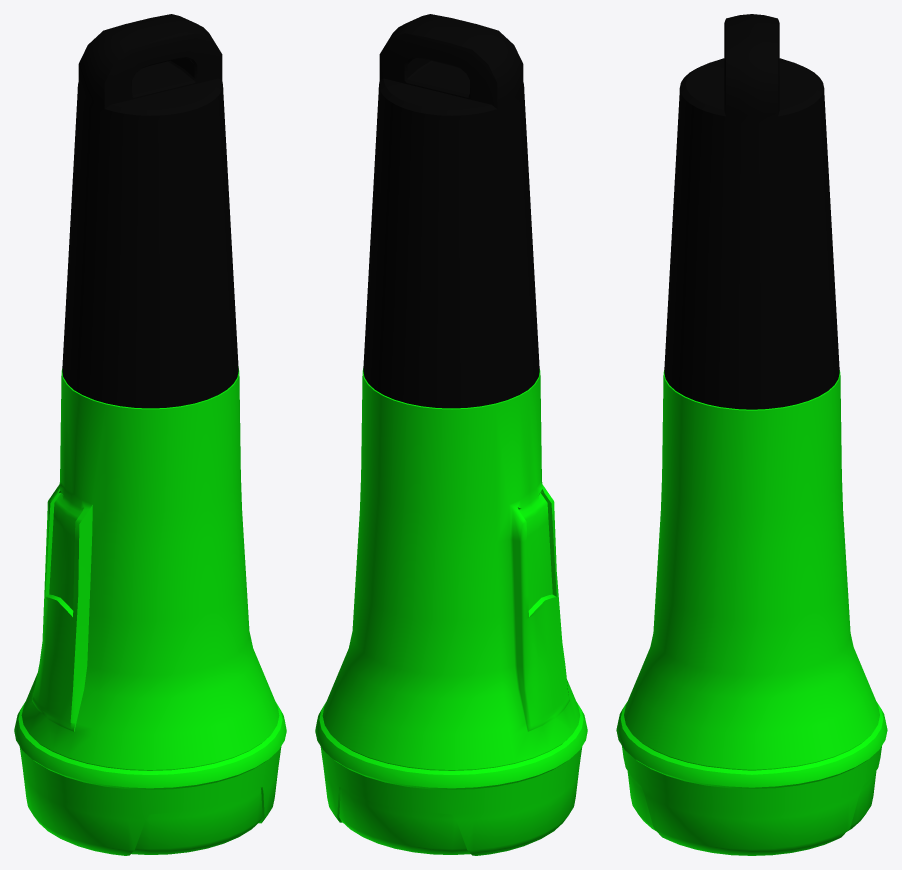
Rendered from Lampara_Examen_Vicky.FBX.
3 renders of one model, left to right at view 1: azimuth 30°, elevation 25°; view 2: azimuth 150°, elevation 25°; view 3: azimuth 270°, elevation 25°, orthographic.
Parts seen in each view (by area): view 1: G_Carcasa&Emisor; view 2: G_Carcasa&Emisor; view 3: G_Carcasa&Emisor.
Part boxes in pixels (x1=…): G_Carcasa&Emisor: x1=14, y1=14, x2=286, y2=855; G_Carcasa&Emisor: x1=315, y1=14, x2=587, y2=855; G_Carcasa&Emisor: x1=616, y1=14, x2=887, y2=855.
Bounding box in the file's own units: 11.87 × 37.68 × 11.9.
